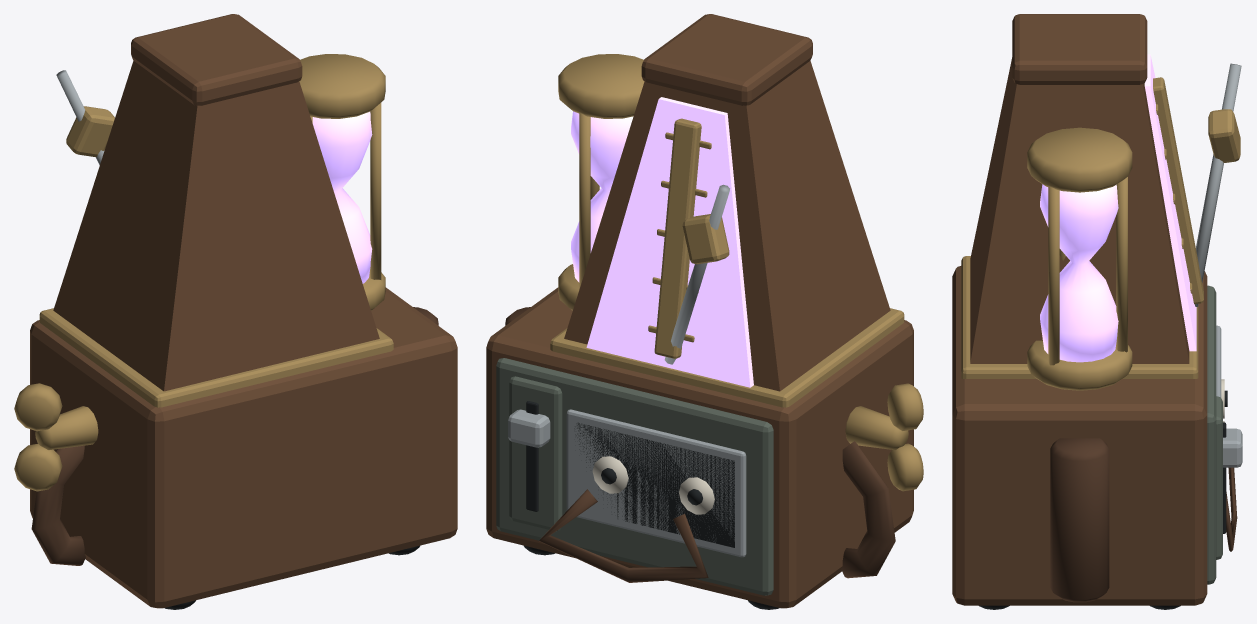
The model's file is time_device.glb.
3 renders of one model, left to right at view 1: azimuth 30°, elevation 25°; view 2: azimuth 150°, elevation 25°; view 3: azimuth 270°, elevation 25°, orthographic.
Parts seen in each view (by area): view 1: TimeDevice_Weathered_Walnut, TimeDevice_Aged_Brass, Hourglass_Violet_Bulbs, TimeDevice_Oxhide_Leather, Metronome_Pendulum_Weight, Metronome_Pendulum_Rod; view 2: TimeDevice_Weathered_Walnut, TimeDevice_Slate_Olive, TimeDevice_Aged_Brass, Metronome_Violet_Face, TimeDevice_Brushed_Steel, TimeDevice_Dark_Charcoal, TimeDevice_Oxhide_Leather, Hourglass_Violet_Bulbs, Metronome_Pendulum_Weight, TimeDevice_Porcelain_Ivory, Metronome_Pendulum_Rod; view 3: TimeDevice_Weathered_Walnut, TimeDevice_Aged_Brass, TimeDevice_Oxhide_Leather, Hourglass_Violet_Bulbs, TimeDevice_Slate_Olive, Metronome_Violet_Face, Metronome_Pendulum_Rod, Metronome_Pendulum_Weight, TimeDevice_Brushed_Steel, TimeDevice_Dark_Charcoal.
Boxes of the visible parts, x1,y1,x2,y2 form: TimeDevice_Weathered_Walnut: (30, 14, 457, 608); TimeDevice_Aged_Brass: (14, 54, 393, 491); Hourglass_Violet_Bulbs: (312, 111, 372, 283); TimeDevice_Oxhide_Leather: (31, 307, 438, 565); Metronome_Pendulum_Weight: (66, 106, 114, 157); Metronome_Pendulum_Rod: (56, 70, 104, 164); TimeDevice_Weathered_Walnut: (486, 14, 913, 608); TimeDevice_Slate_Olive: (496, 358, 773, 595); TimeDevice_Aged_Brass: (550, 54, 923, 491); Metronome_Violet_Face: (586, 97, 753, 387); TimeDevice_Brushed_Steel: (508, 409, 746, 557); TimeDevice_Dark_Charcoal: (524, 401, 779, 609); TimeDevice_Oxhide_Leather: (505, 307, 895, 582); Hourglass_Violet_Bulbs: (571, 111, 633, 282); Metronome_Pendulum_Weight: (682, 214, 729, 264); TimeDevice_Porcelain_Ivory: (592, 456, 714, 514); Metronome_Pendulum_Rod: (664, 184, 729, 364); TimeDevice_Weathered_Walnut: (952, 14, 1207, 605); TimeDevice_Aged_Brass: (961, 77, 1203, 390); TimeDevice_Oxhide_Leather: (1050, 438, 1237, 602); Hourglass_Violet_Bulbs: (1040, 184, 1118, 362); TimeDevice_Slate_Olive: (1207, 285, 1222, 584); Metronome_Violet_Face: (1144, 54, 1196, 351); Metronome_Pendulum_Rod: (1195, 63, 1241, 306); Metronome_Pendulum_Weight: (1208, 109, 1240, 162); TimeDevice_Brushed_Steel: (1216, 325, 1242, 467); TimeDevice_Dark_Charcoal: (979, 390, 1227, 609).
Bounding box in the file's own units: 0.2891 × 0.334 × 0.1765.
